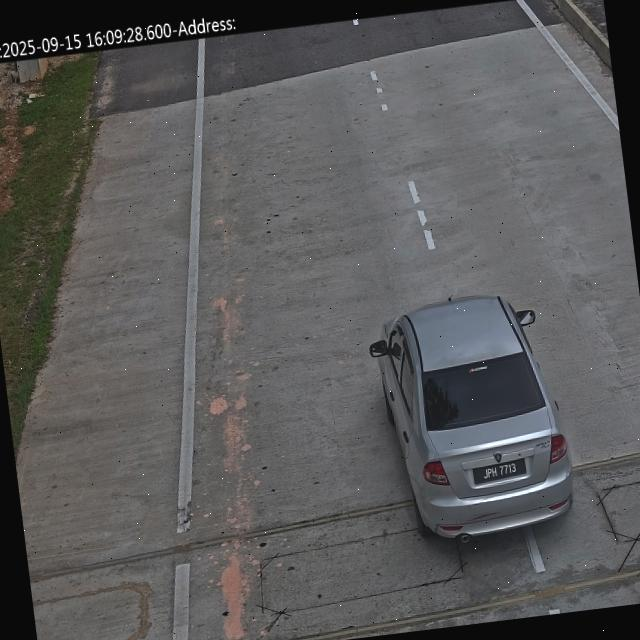back: (472, 451, 536, 492)
